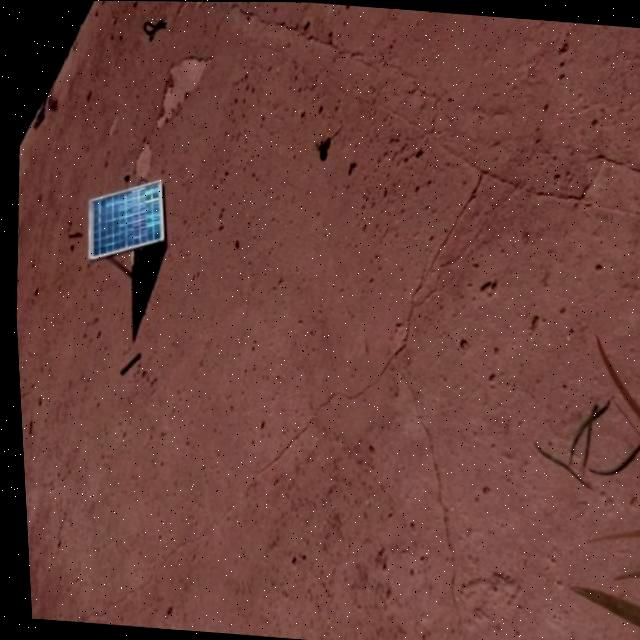Normal Solar Panel: (81, 172, 167, 262)
